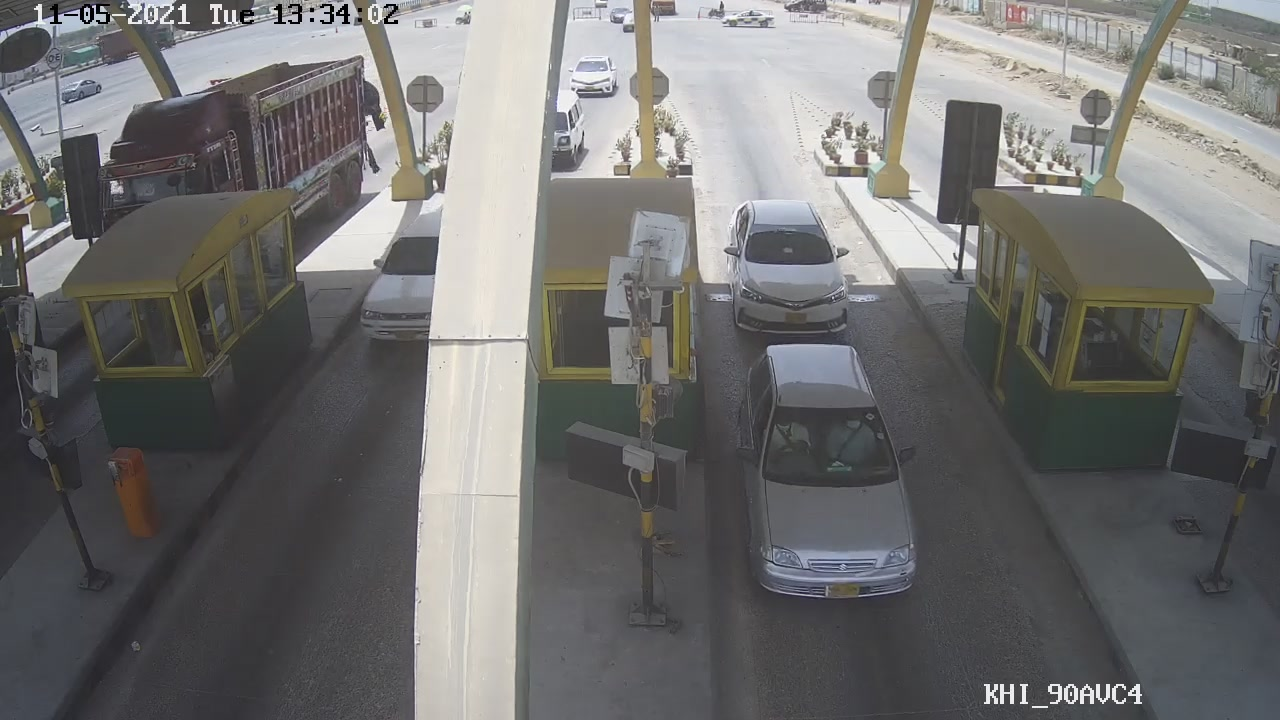F1: (733, 345, 921, 604), (722, 192, 855, 344)
